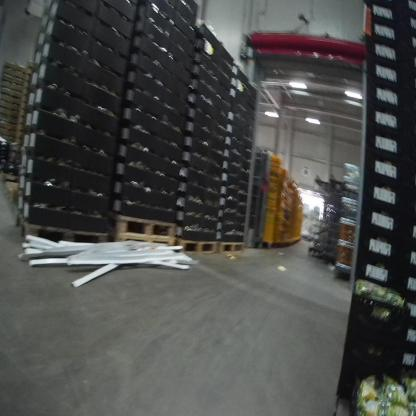pallet: (14, 209, 118, 250), (104, 206, 178, 239), (109, 230, 181, 255), (174, 233, 219, 256), (3, 179, 32, 206), (216, 237, 247, 255)
